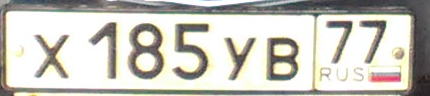character: (28, 26, 76, 84), (171, 20, 213, 82), (125, 19, 165, 81), (87, 19, 122, 81), (264, 34, 302, 84), (222, 33, 257, 82), (324, 17, 355, 69), (357, 14, 388, 66)
